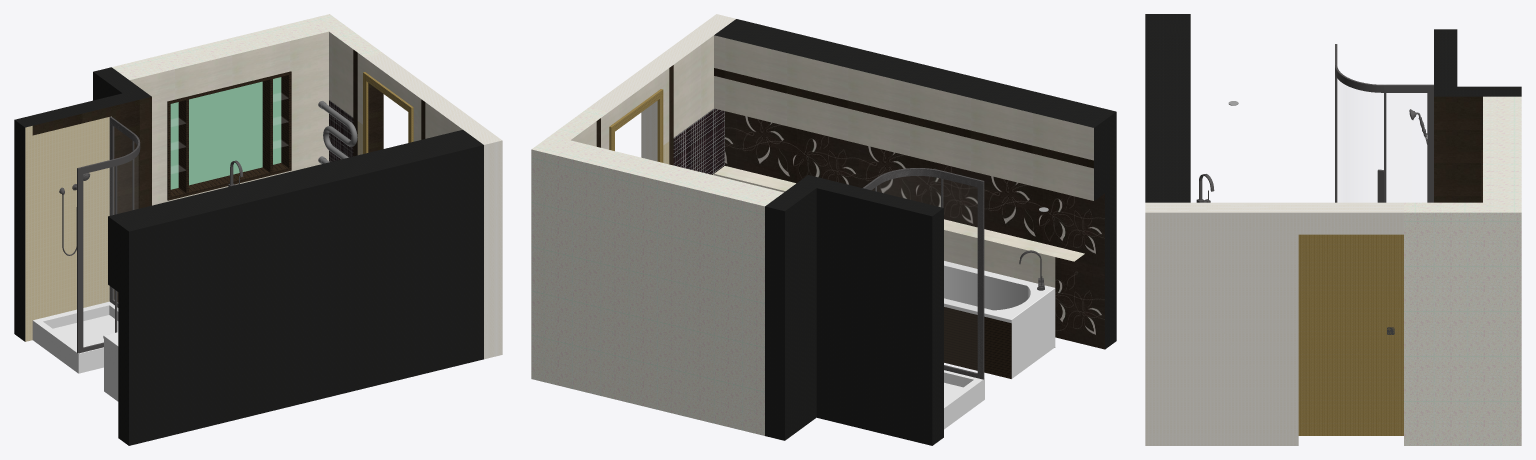
Rendered from patriani_refatorado.glb.
The picture shows the model from 3 angles, left to right: view 1: azimuth 30°, elevation 25°; view 2: azimuth 150°, elevation 25°; view 3: azimuth 270°, elevation 25°; orthographic projection. The views are drawn at different scales.
Visible parts, largest first — view 1: object 87, object 1, object 89, object 88, object 78, object 7, object 71, object 5, object 4, object 69, object 70, object 61 (+2 smaller); view 2: object 87, object 89, object 1, object 88, object 61, object 86, object 62, object 5, object 7, object 6; view 3: object 88, object 89, object 67, object 87, object 1, object 68, object 5, object 65, object 6.
Boxes of the visible parts, x1=… form: object 87: x1=108, y1=130, x2=483, y2=445; object 1: x1=14, y1=67, x2=151, y2=341; object 89: x1=112, y1=14, x2=383, y2=205; object 88: x1=365, y1=53, x2=502, y2=359; object 78: x1=170, y1=77, x2=281, y2=189; object 7: x1=32, y1=301, x2=118, y2=373; object 71: x1=167, y1=71, x2=291, y2=200; object 5: x1=77, y1=124, x2=134, y2=353; object 4: x1=110, y1=156, x2=137, y2=300; object 69: x1=178, y1=99, x2=188, y2=193; object 70: x1=262, y1=79, x2=272, y2=172; object 61: x1=103, y1=332, x2=118, y2=401; object 87: x1=714, y1=19, x2=1116, y2=349; object 89: x1=531, y1=107, x2=783, y2=435; object 1: x1=765, y1=175, x2=943, y2=445; object 88: x1=590, y1=14, x2=735, y2=175; object 61: x1=944, y1=261, x2=1055, y2=378; object 86: x1=714, y1=110, x2=1084, y2=347; object 62: x1=944, y1=307, x2=1011, y2=378; object 5: x1=875, y1=178, x2=984, y2=379; object 7: x1=944, y1=370, x2=984, y2=429; object 6: x1=863, y1=168, x2=984, y2=190; object 88: x1=1145, y1=202, x2=1403, y2=445; object 89: x1=1404, y1=96, x2=1521, y2=445; object 67: x1=1305, y1=234, x2=1396, y2=435; object 87: x1=1145, y1=14, x2=1190, y2=202; object 1: x1=1434, y1=29, x2=1521, y2=202; object 68: x1=1298, y1=234, x2=1305, y2=435; object 5: x1=1335, y1=72, x2=1433, y2=202; object 65: x1=1397, y1=234, x2=1403, y2=435; object 6: x1=1335, y1=44, x2=1433, y2=92.
Bounding box in the file's own units: 4.23 × 2.32 × 3.39.
29 materials, 14 textured.
